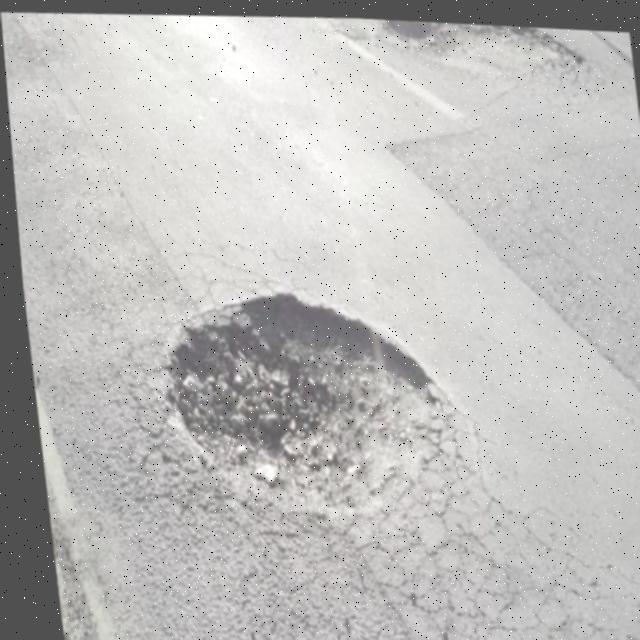pothole: (142, 261, 472, 538)
